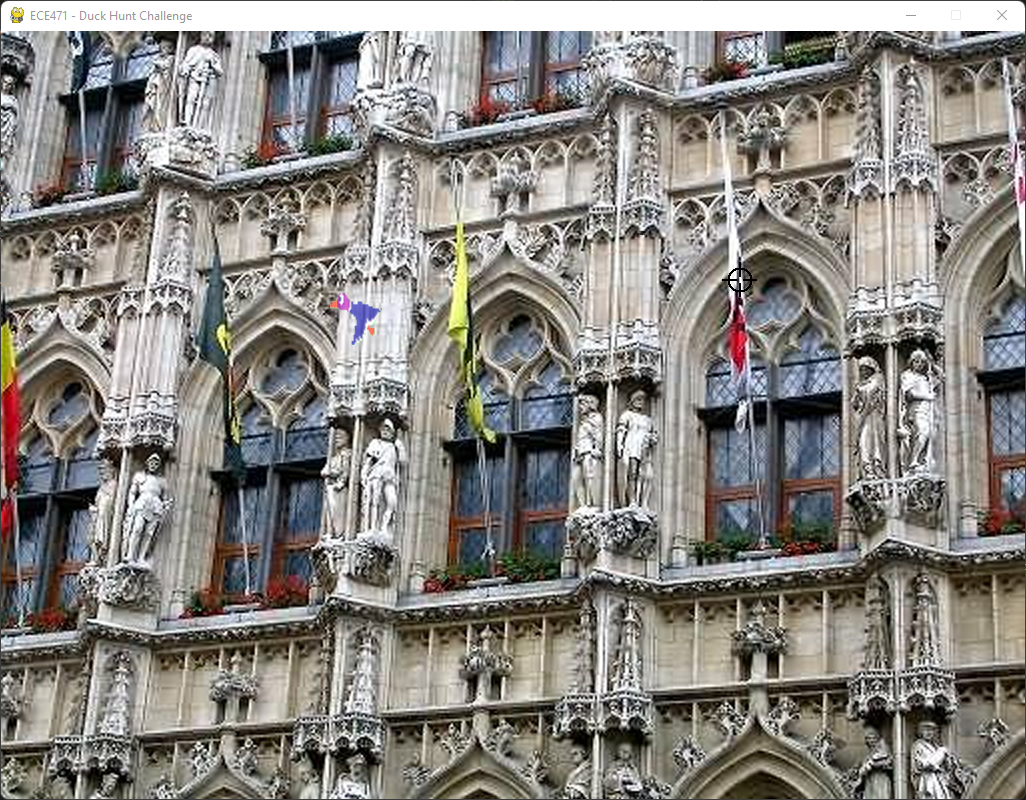blue: (317, 283, 394, 353)
